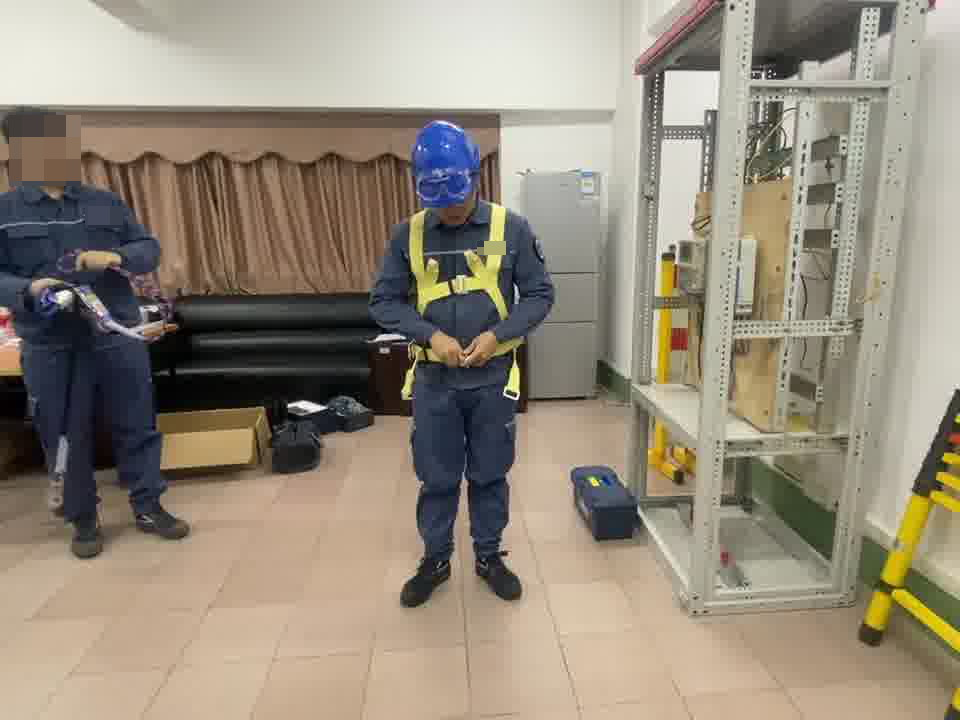downsuit: (19, 346, 168, 518), (409, 393, 518, 562)
halt: (410, 121, 484, 218)
hand: (465, 332, 499, 371), (75, 250, 119, 275), (433, 332, 464, 361)
noear: (6, 142, 40, 171)
person: (370, 117, 555, 603), (1, 110, 187, 545)
safebelt: (386, 207, 534, 407)
unhalt: (2, 108, 78, 186)
upsuit: (373, 201, 553, 373), (1, 182, 156, 339)
